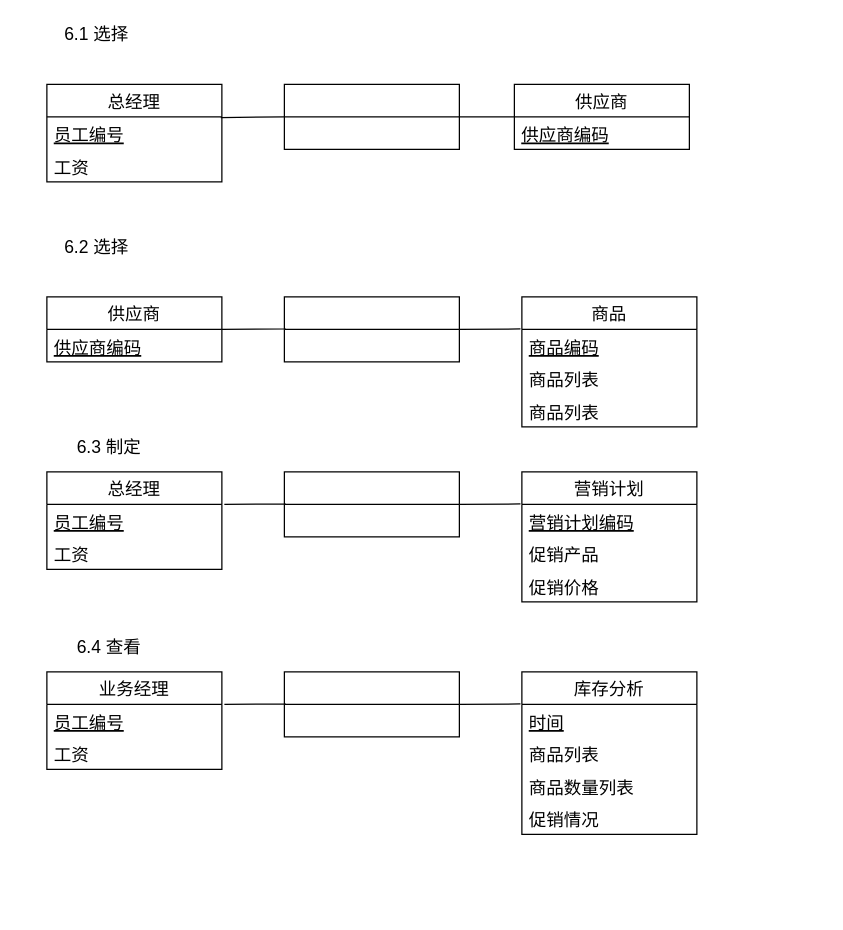
This 843x930 diagram has some shape labels left out. The centre of each missing label's shape, as x and y in pixels:
"制定" goes at (371,504).
"提供" goes at (371,329).
"查看" goes at (371,704).
"选择" goes at (371,116).
